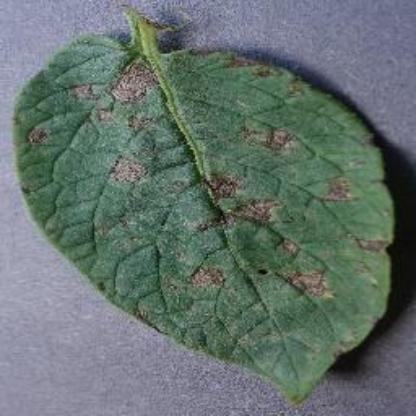Early-Blight: (11, 4, 399, 402)
